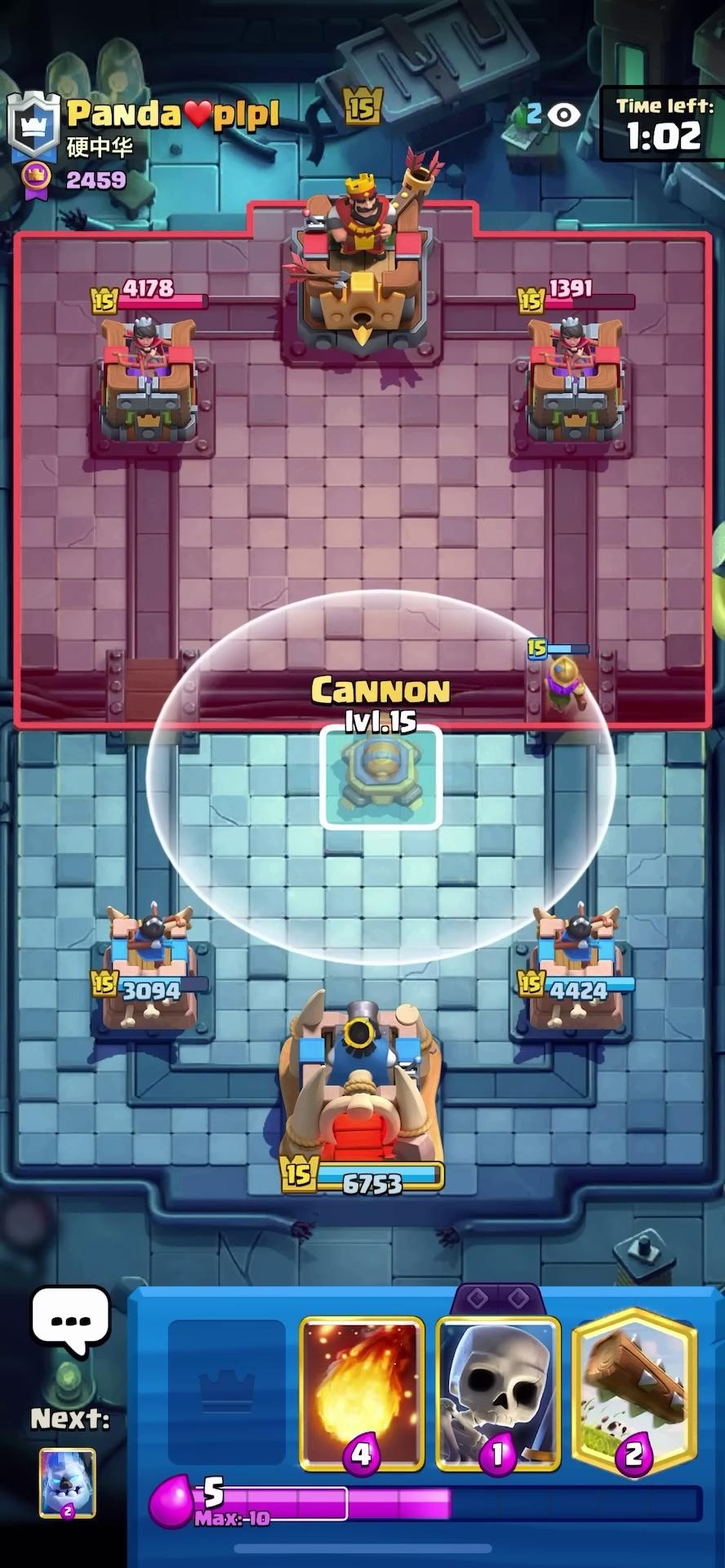musketeer: (510, 637, 594, 717)
